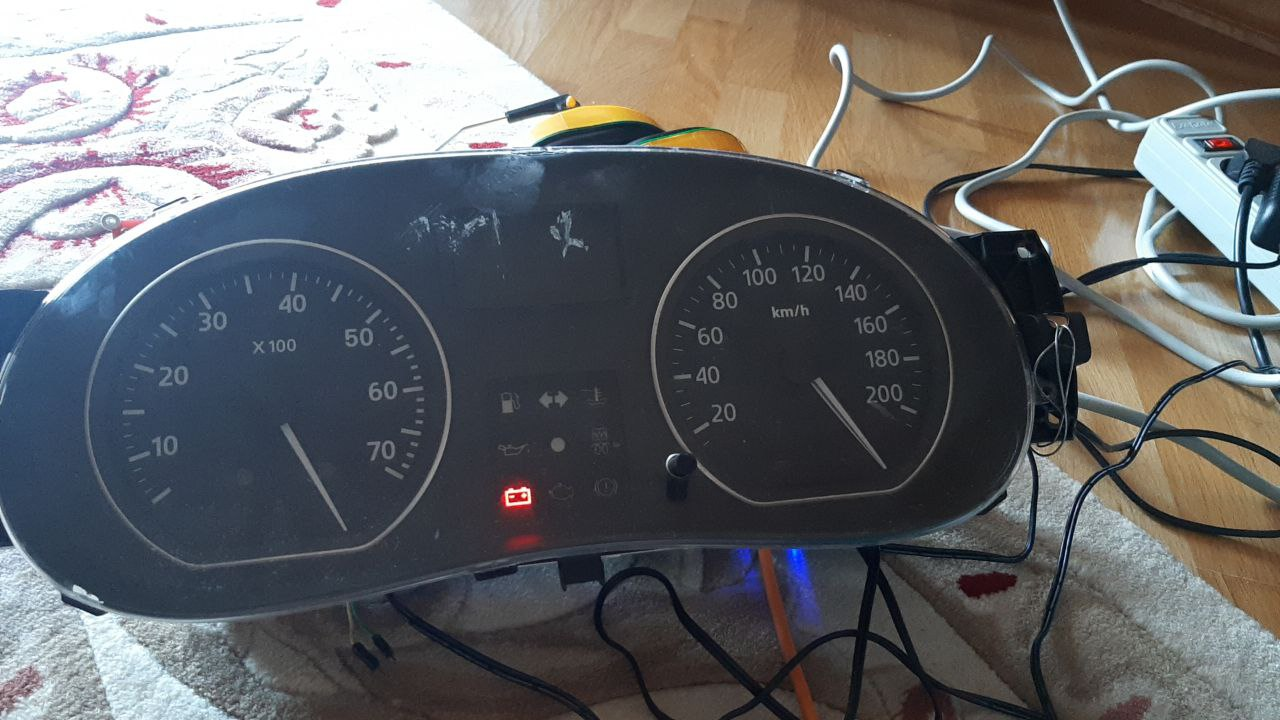accumulator: (498, 486, 537, 511)
